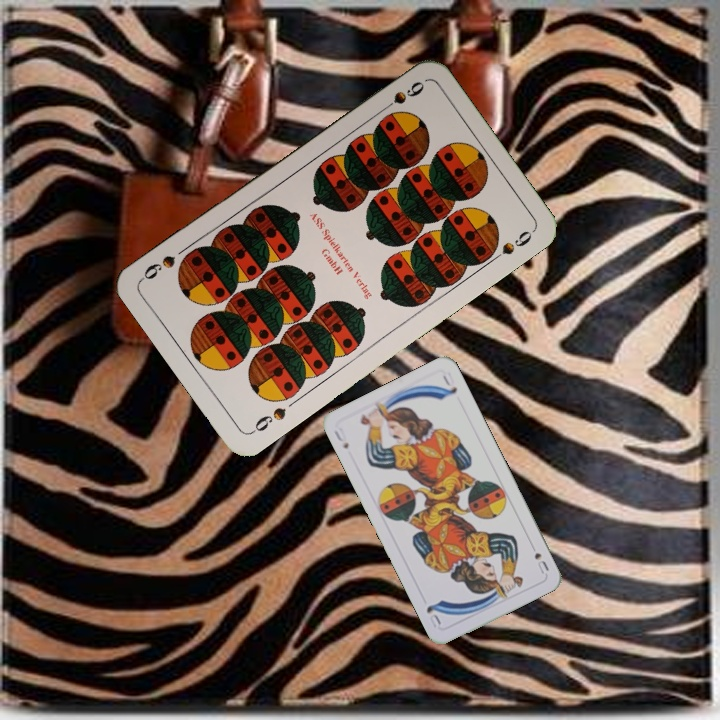S9: (374, 77, 428, 116), (247, 403, 289, 436)
SU: (330, 423, 351, 452), (530, 549, 551, 576)
